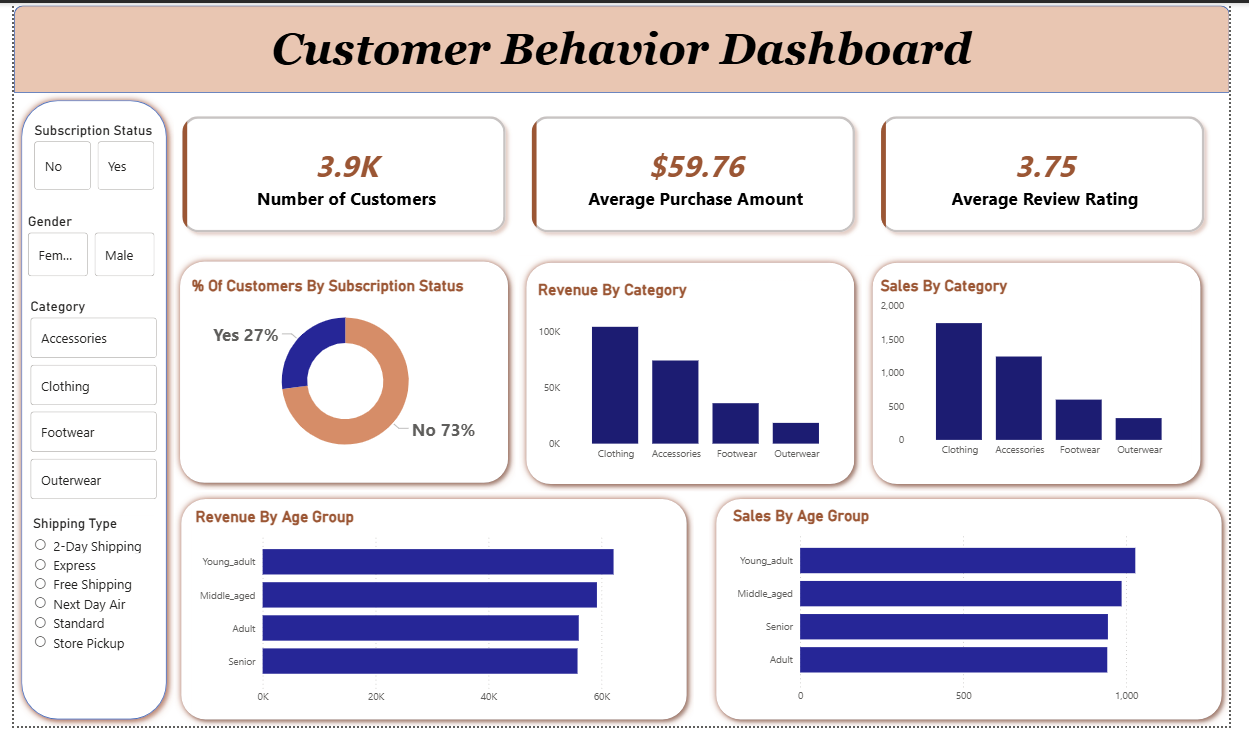

What the dashboard file says about the page in this screenshot:
{"tool":"powerbi","page":{"name":"Page 1","canvas":[1500,893],"ordinal":0},"visuals":[{"type":"cardVisual","fields":{"Data":["public customer.Number of Customers","public customer.Average Purchase Amount","public customer.Average Review Rating"]},"box":[178.5,111,1321.8,201],"z":0},{"type":"shape","box":[0,3.2,1500.3,107.7],"z":1000},{"type":"textbox","box":[0,20.9,1500.3,90.1],"z":2000},{"type":"shape","box":[196.2,310.4,422.9,291.1],"z":3000},{"type":"donutChart","title":"% Of Customers By Subscription Status","fields":{"Category":["public customer.subscription_status"],"Y":["CountNonNull(public customer.customer_id)"]},"box":[213.9,337.7,389.2,236.4],"z":4000},{"type":"shape","box":[623.1,312,422.9,291.1],"z":5000},{"type":"shape","box":[1050.1,312,422.9,291.1],"z":6000},{"type":"clusteredColumnChart","title":"Revenue By Category","fields":{"Y":["Sum(public customer.purchase_amount)"],"Category":["public customer.category"]},"box":[641.6,342.5,389.2,231.6],"z":7000},{"type":"clusteredColumnChart","title":"Sales By Category","fields":{"Y":["CountNonNull(public customer.customer_id)"],"Category":["public customer.category"]},"box":[1064.5,337.7,389.2,231.6],"z":8000},{"type":"shape","box":[0,111.1,197.5,782.2],"z":9000},{"type":"advancedSlicerVisual","title":"Subscription Status","fields":{"Values":["public customer.subscription_status"]},"box":[20.1,146.6,158.9,89.5],"z":10000},{"type":"advancedSlicerVisual","title":"Category","fields":{"Values":["public customer.category"]},"box":[15.4,364.1,166.6,256.1],"z":11000},{"type":"advancedSlicerVisual","title":"Gender","fields":{"Values":["public customer.gender"]},"box":[12.3,259.2,166.6,83.3],"z":12000},{"type":"listSlicer","title":"Shipping Type","fields":{"Values":["public customer.shipping_type"]},"box":[18.5,632.6,154.3,226.8],"z":13000},{"type":"shape","box":[197.5,603.3,641.8,290.1],"z":13500},{"type":"clusteredBarChart","title":"Revenue By Age Group","fields":{"Y":["Sum(public customer.purchase_amount)"],"Category":["public customer.age_group"]},"box":[219.1,623.3,590.9,251.5],"z":14000},{"type":"shape","box":[857.8,603.3,641.8,290.1],"z":16000},{"type":"clusteredBarChart","title":"Sales By Age Group","fields":{"Category":["public customer.age_group"],"Y":["CountNonNull(public customer.customer_id)"]},"box":[882.5,621.8,590.9,251.5],"z":16001}]}

Visuals, with their boxes in screenshot pixels (x1, y1, x2, y2), scaled from the page's 1500x893 canvas onto the 1249x730 screenshot:
cardVisual - public customer.Number of Customers x public customer.Average Purchase Amount: 149:91:1248:255
shape: 0:3:1248:91
textbox: 0:17:1248:91
shape: 163:254:516:492
"% Of Customers By Subscription Status" donutChart: 178:276:502:469
shape: 519:255:871:493
shape: 874:255:1227:493
"Revenue By Category" clusteredColumnChart: 534:280:858:469
"Sales By Category" clusteredColumnChart: 886:276:1210:465
shape: 0:91:164:729
"Subscription Status" advancedSlicerVisual: 17:120:149:193
"Category" advancedSlicerVisual: 13:298:152:507
"Gender" advancedSlicerVisual: 10:212:149:280
"Shipping Type" listSlicer: 15:517:144:703
shape: 164:493:699:729
"Revenue By Age Group" clusteredBarChart: 182:510:674:715
shape: 714:493:1248:729
"Sales By Age Group" clusteredBarChart: 735:508:1227:714
